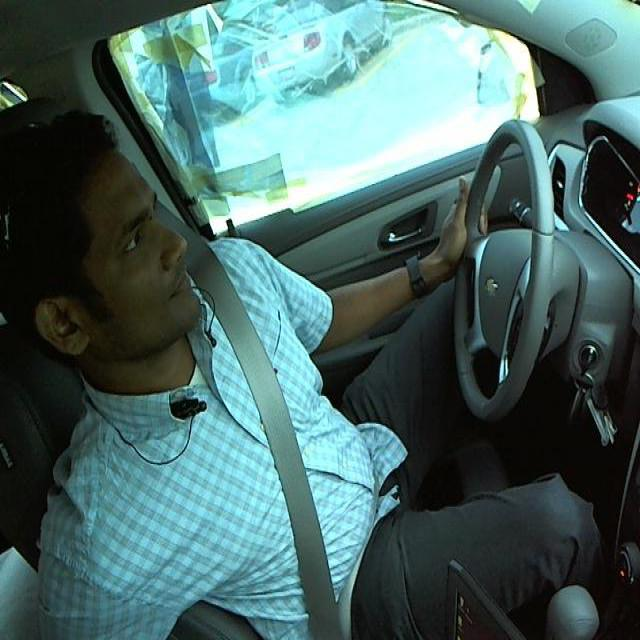seatbelt: (219, 309, 367, 639)
